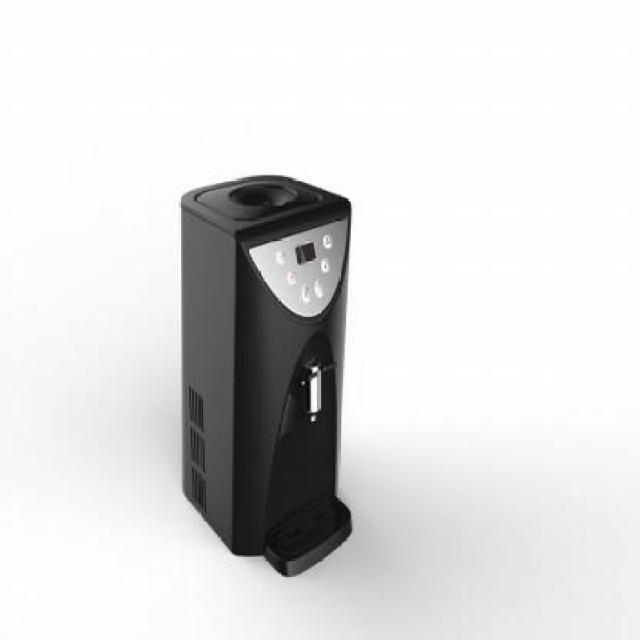cooler: (180, 171, 355, 583)
